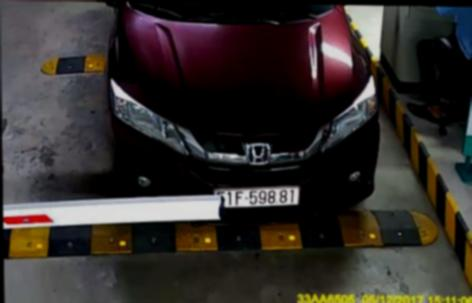License_Plate: (214, 184, 300, 206)
